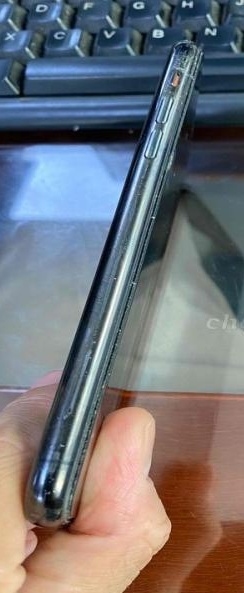scratch: (46, 332, 97, 513), (166, 34, 201, 87), (148, 139, 180, 175), (114, 255, 138, 287), (134, 194, 158, 223)
